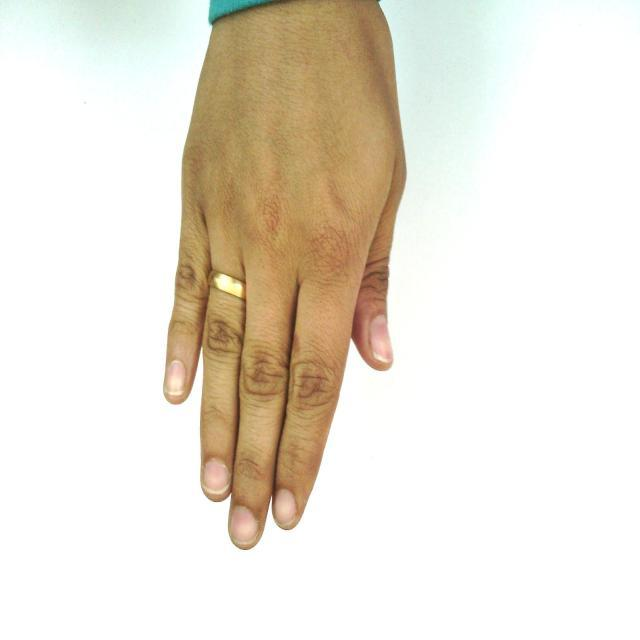Fingernail: (231, 507, 257, 546), (371, 315, 393, 361), (274, 490, 297, 528), (204, 461, 229, 493), (166, 361, 185, 394)
